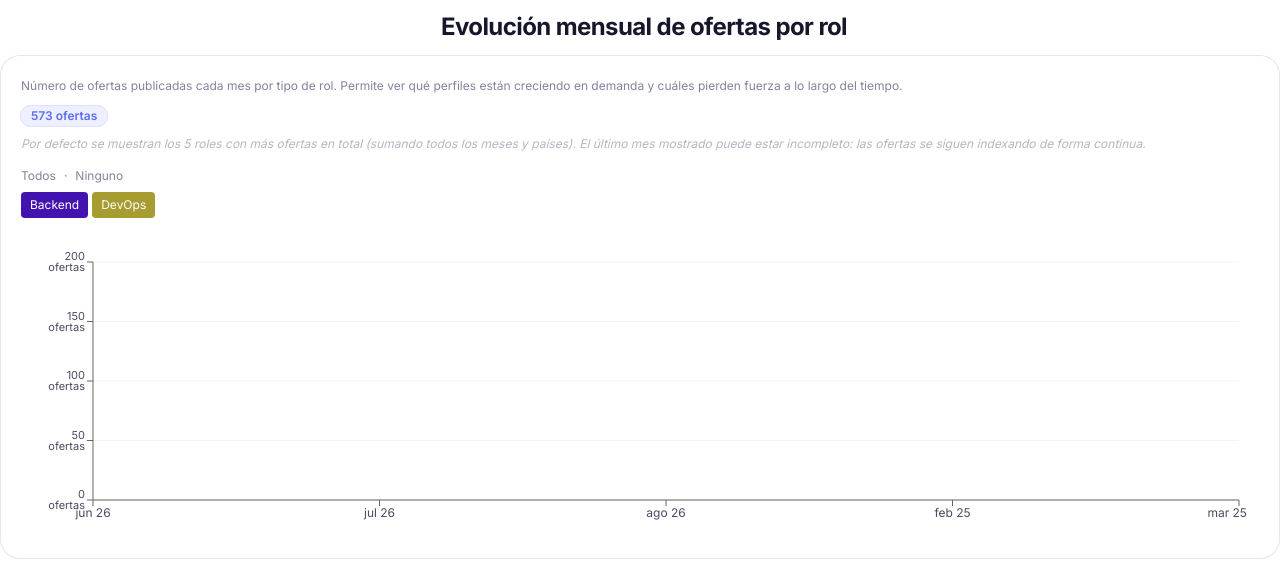
Test: DemandByRoleChart › selector de roles › al pulsar Ninguno, muestra el mensaje de seleccionar rol
Click the button "Ninguno": (99, 176) [75, 168, 123, 184]
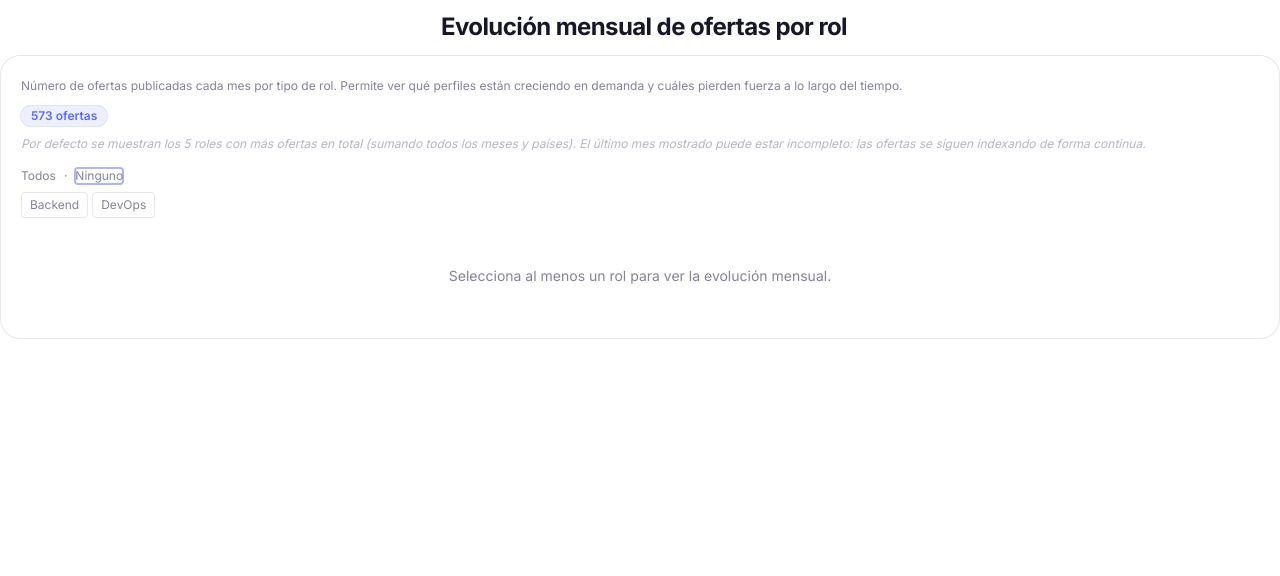
Now the text "Selecciona al menos un rol para ver la evolución mensual." is shown, box [449, 266, 831, 284]
